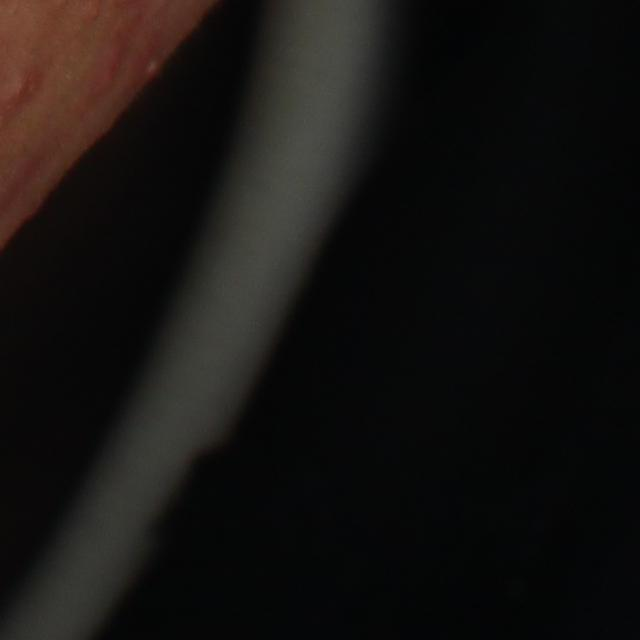papule: (96, 33, 126, 93), (9, 61, 41, 104)
pustule: (140, 48, 163, 82)
